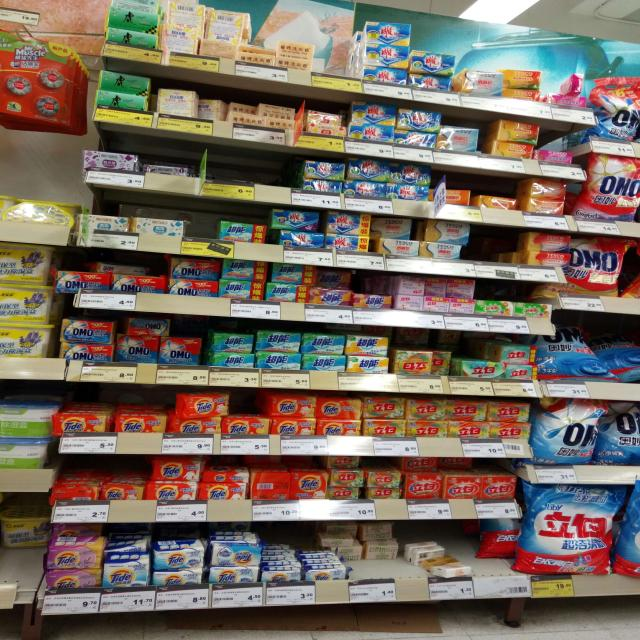void: (240, 152, 292, 206), (477, 219, 522, 281), (322, 35, 357, 96), (214, 147, 235, 204)
